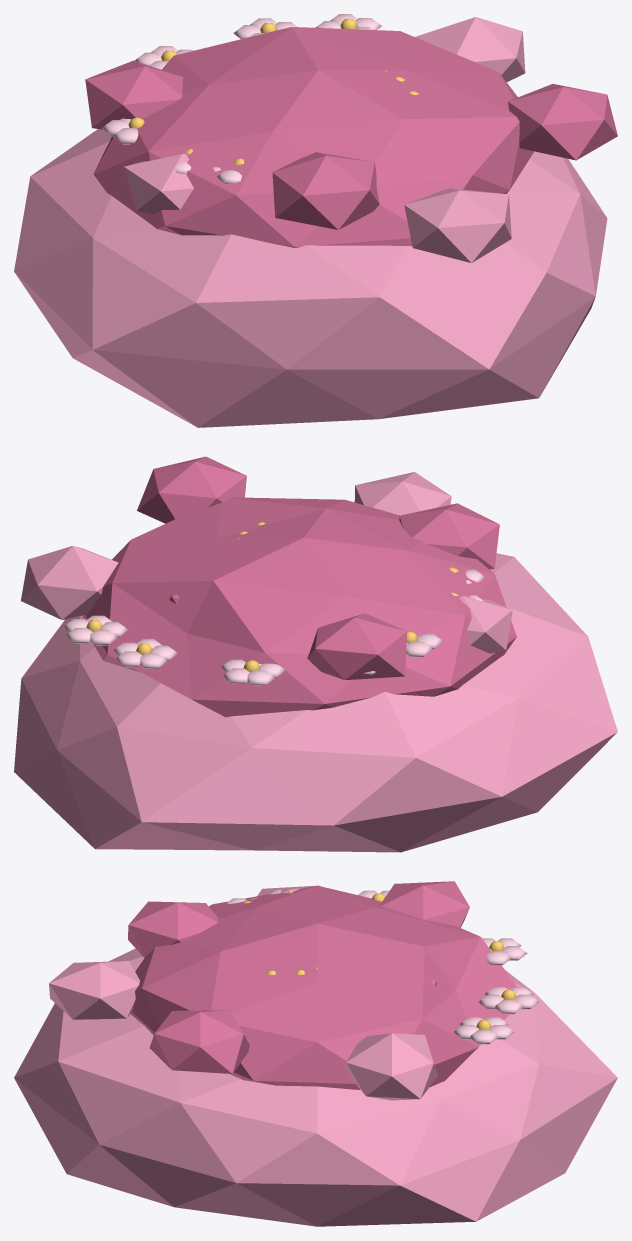
Rendered from blossom-crown-bloom.glb.
3 renders of one model, top to bottom at view 1: azimuth 30°, elevation 25°; view 2: azimuth 150°, elevation 25°; view 3: azimuth 270°, elevation 25°, orthographic. The views are drawn at different scales.
Visible parts, largest first — view 1: blossom-crown; view 2: blossom-crown; view 3: blossom-crown.
Boxes of the visible parts, box(x1,y1,x2,y2) form: blossom-crown: box(14, 14, 617, 427); blossom-crown: box(14, 456, 617, 852); blossom-crown: box(14, 881, 617, 1226).
Size of the model in its own units: 1.96 by 1.03 by 2.19.
